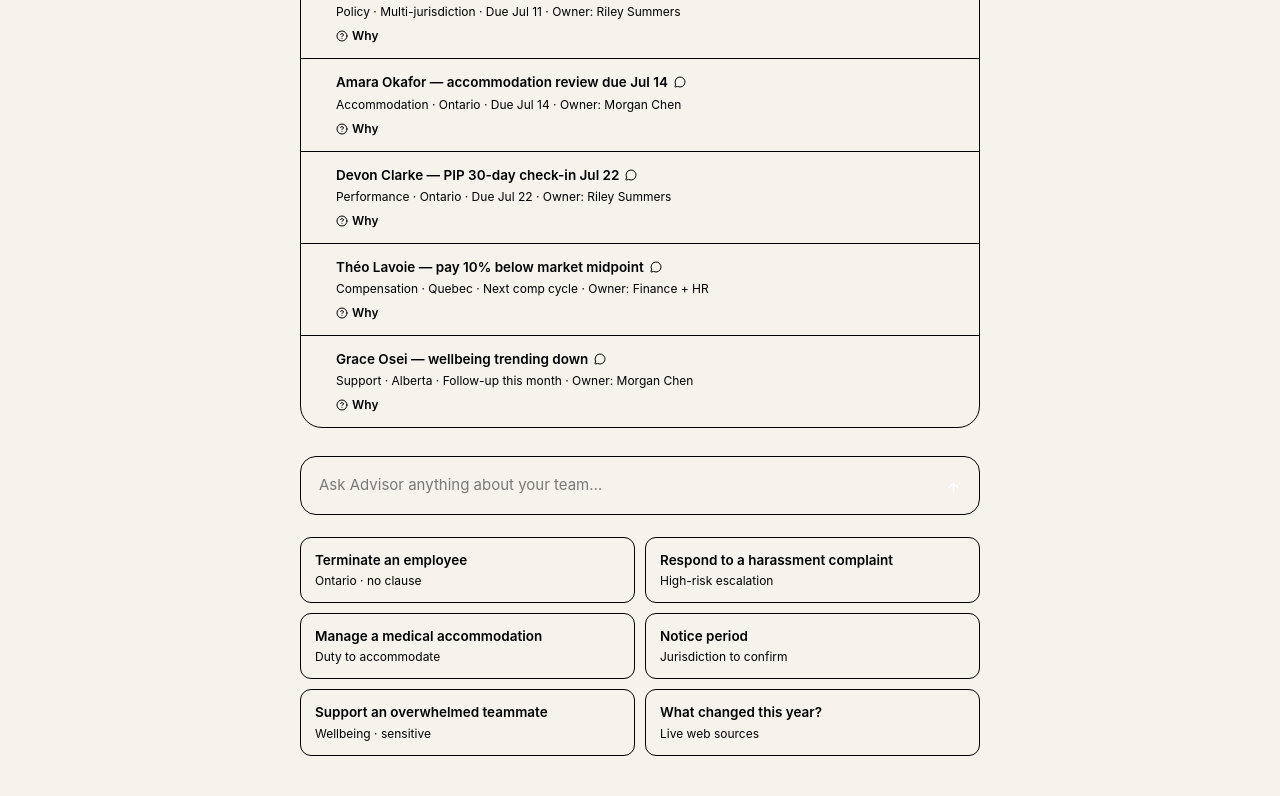
Test: AdvisorView › with fake timers › asks for jurisdiction first when no province cue is given (never assumes Ontario)
(page scrolled)
In the text box with placeholder "Ask Advisor anything about your team…": (622, 486) [319,465,925,506], type "What's the notice period we owe an employee?"
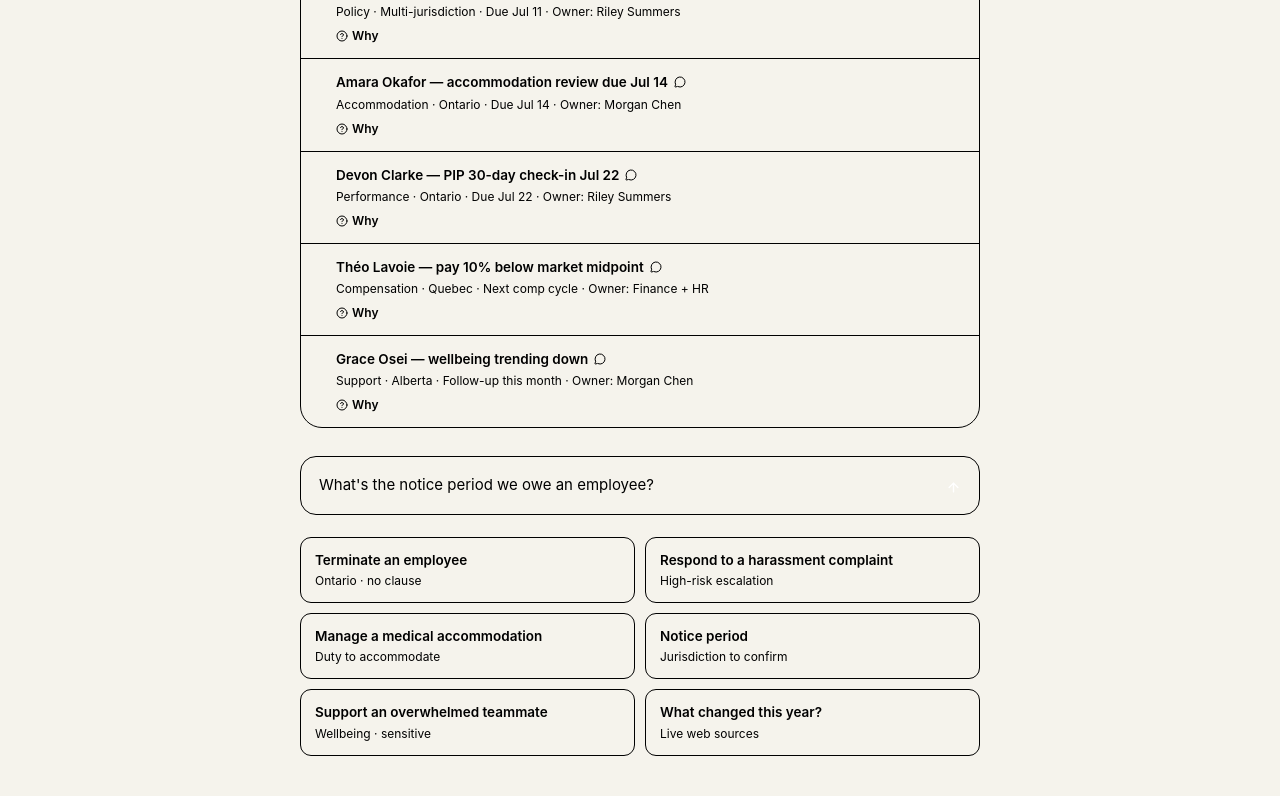
Press Enter in the text box with placeholder "Ask Advisor anything about your team…", box [319,465,925,506]
Wait 8849 ms
(page scrolled)
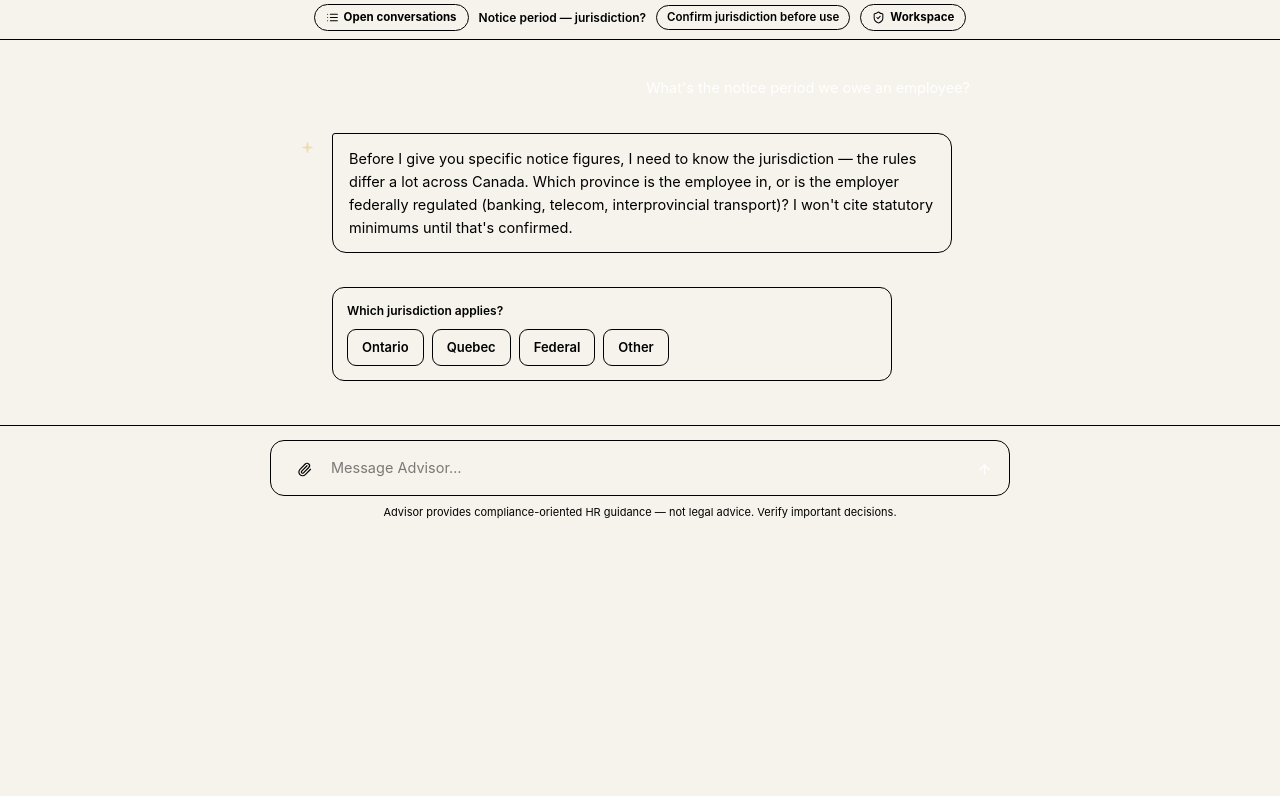
Result: the text "I need to know the jurisdiction" is shown at [349,150,933,236]
Result: the text "Which jurisdiction applies?" is shown at [347,303,503,318]
Result: the text "Confirm jurisdiction before use" is shown at [656,5,850,30]
Click the button "Ontario": (385, 347) [347,329,424,366]
Wait 8849 ms
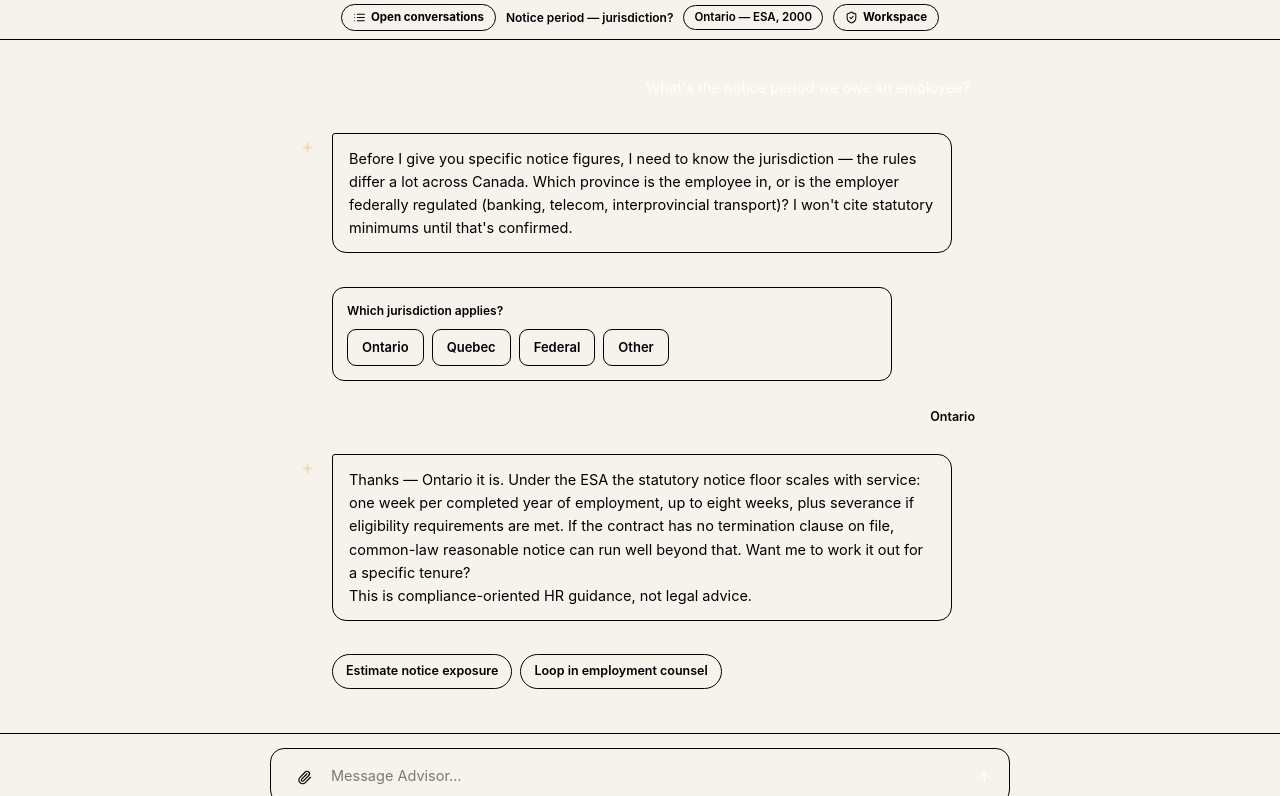
Result: the text "Thanks — Ontario it is" is shown at [349,471,923,581]
Result: the text "Ontario — ESA, 2000" is shown at [684,5,823,30]
